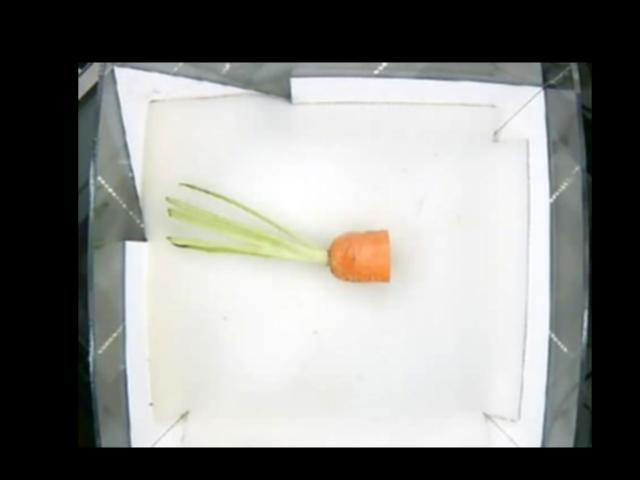Carrot: (274, 227, 391, 285)
